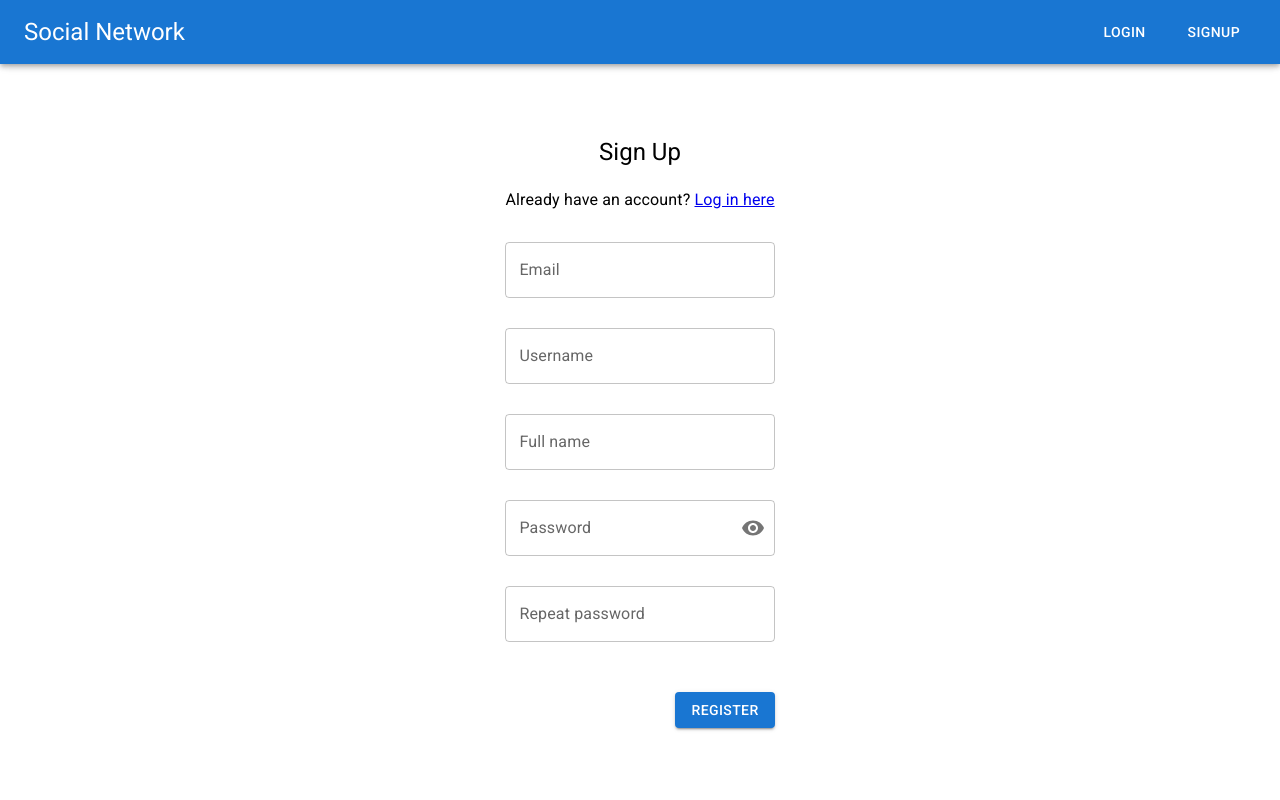
Test case: register page form › should return error if email taken
The width and height of the screenshot is (1280, 800).
Type "johndoe@gmail.com" into the field labelled "Email". click: x=640, y=270
box: [505,242,775,298]
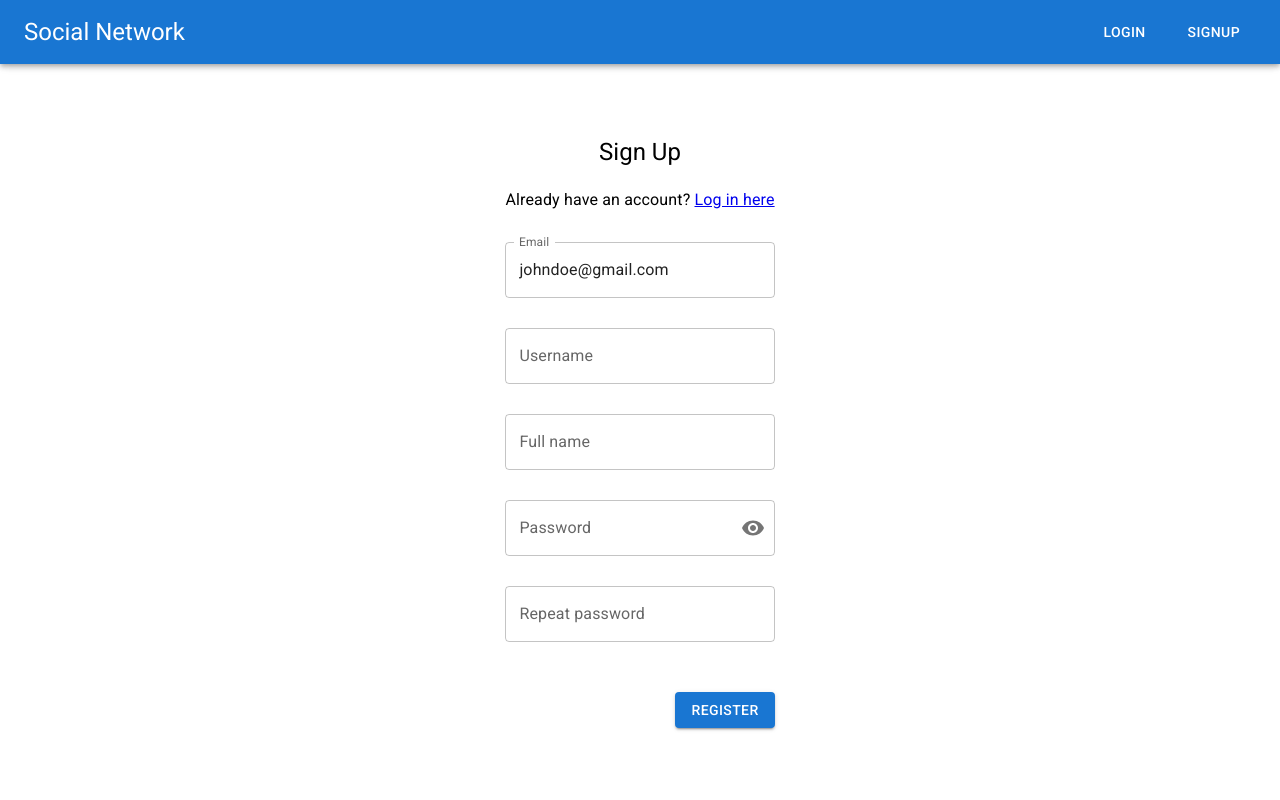
Type "john007" into the field labelled "Username". click: x=640, y=356
box: [505,328,775,384]
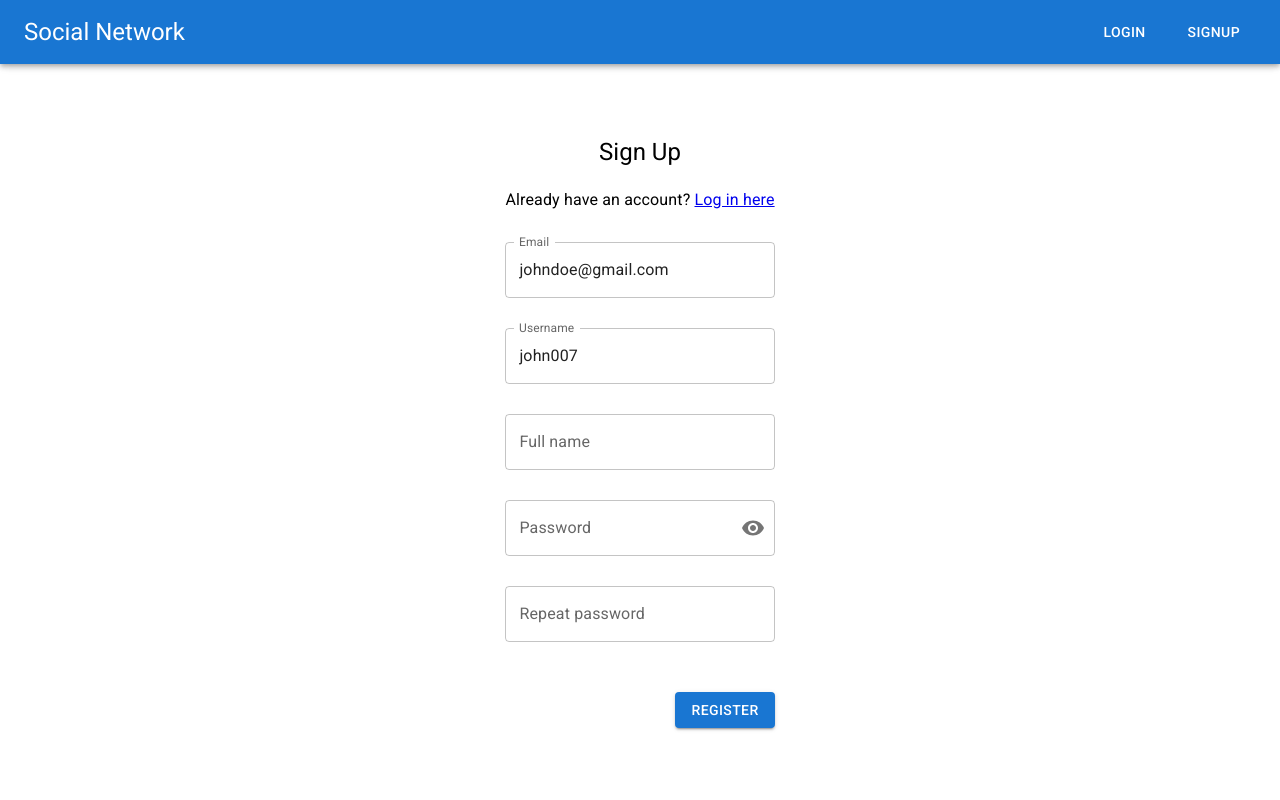
Type "John Doe" into the field labelled "Full name". click: x=640, y=442
box: [505,414,775,470]
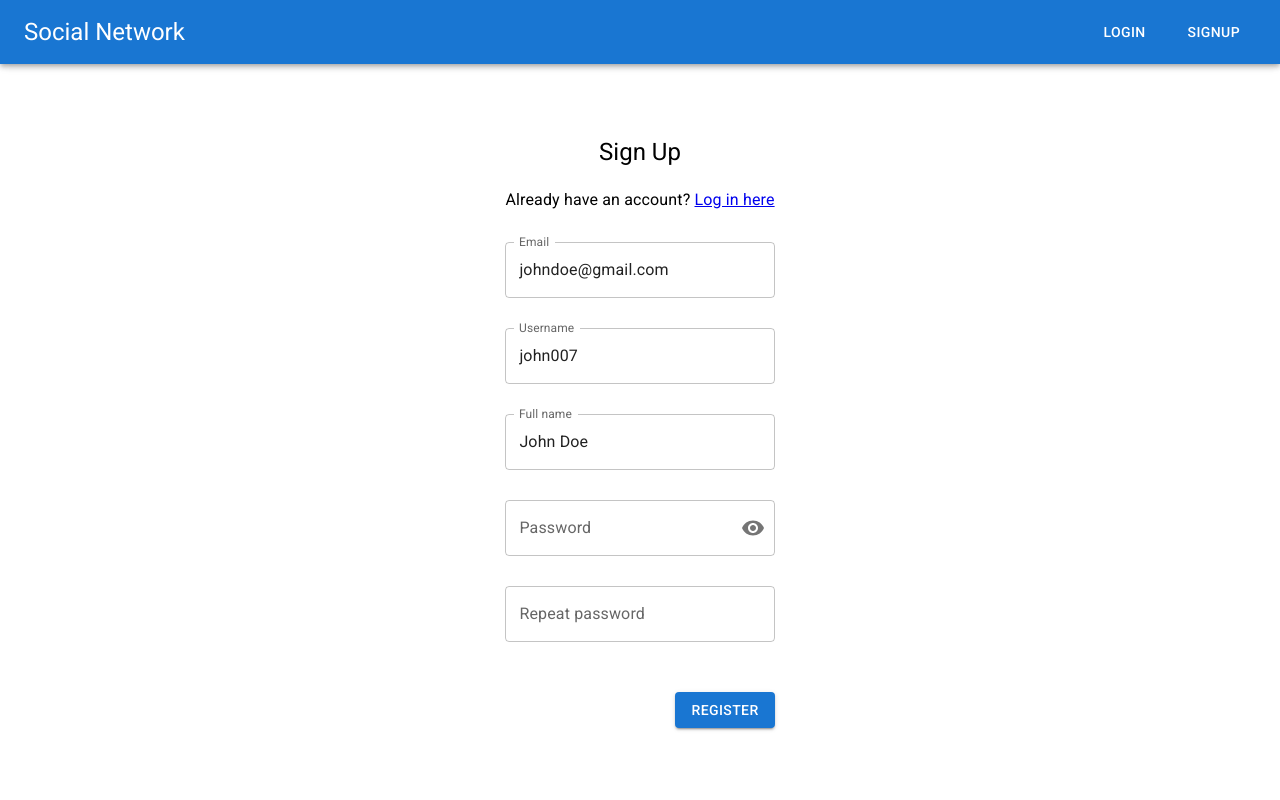
Type "123" into the password field labelled "Password". click: x=615, y=528
box: [505,500,725,556]
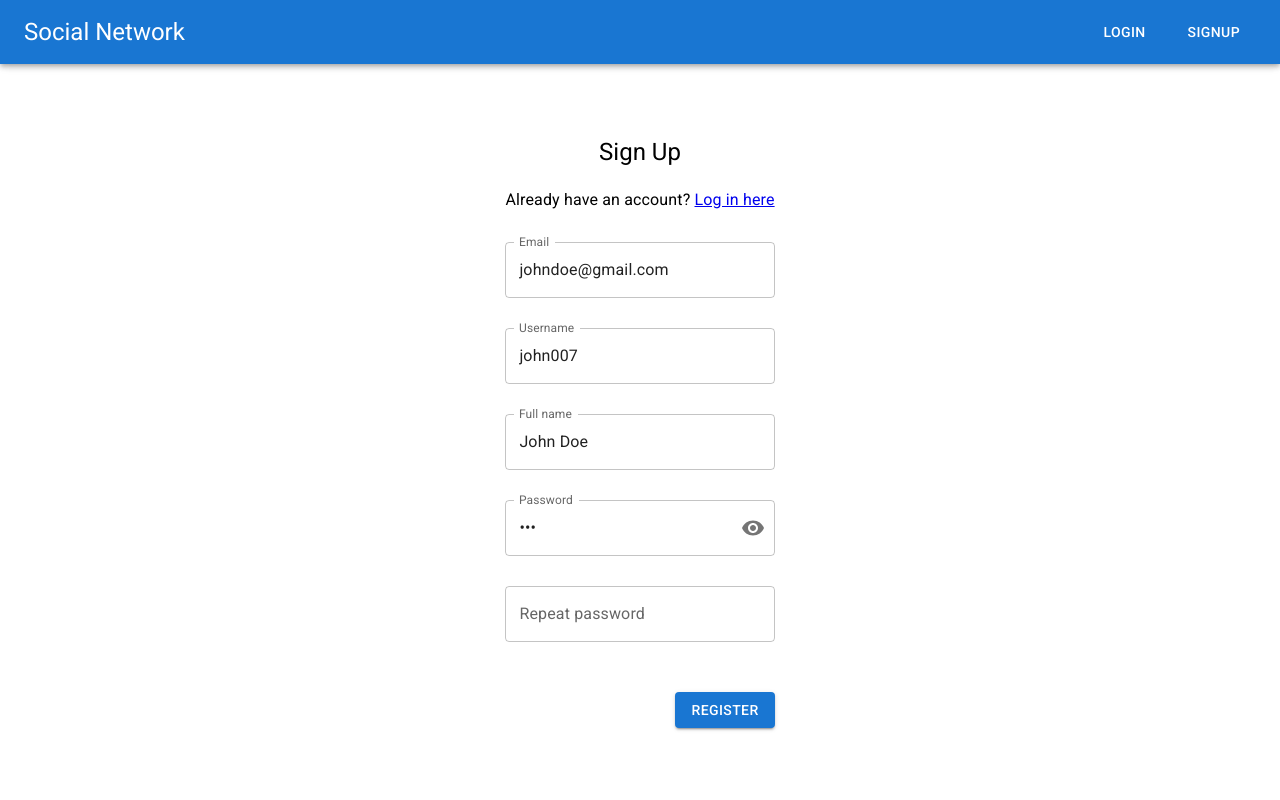
Type "123" into the password field labelled "Repeat password". click: x=640, y=614
box: [505,586,775,642]
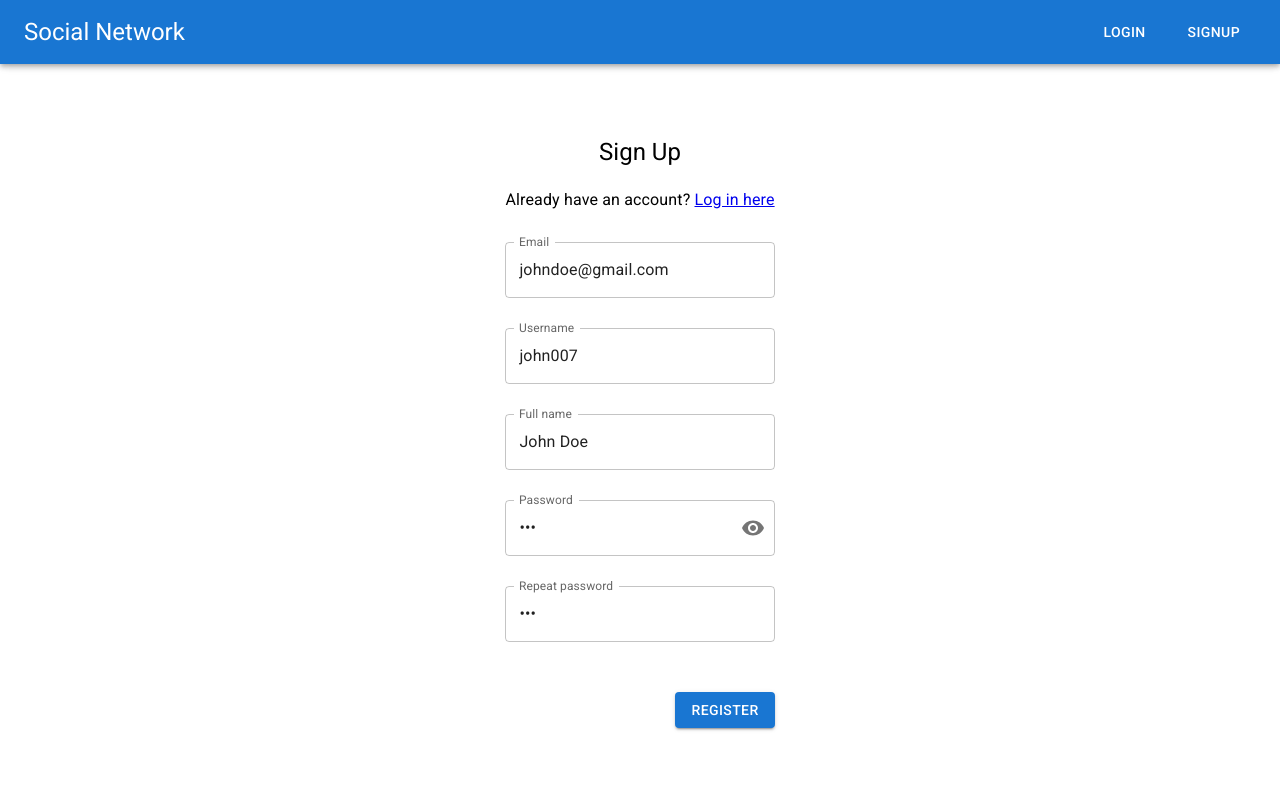
Click the button with test id "submit-btn". click: x=725, y=710
box: [676,692,775,728]
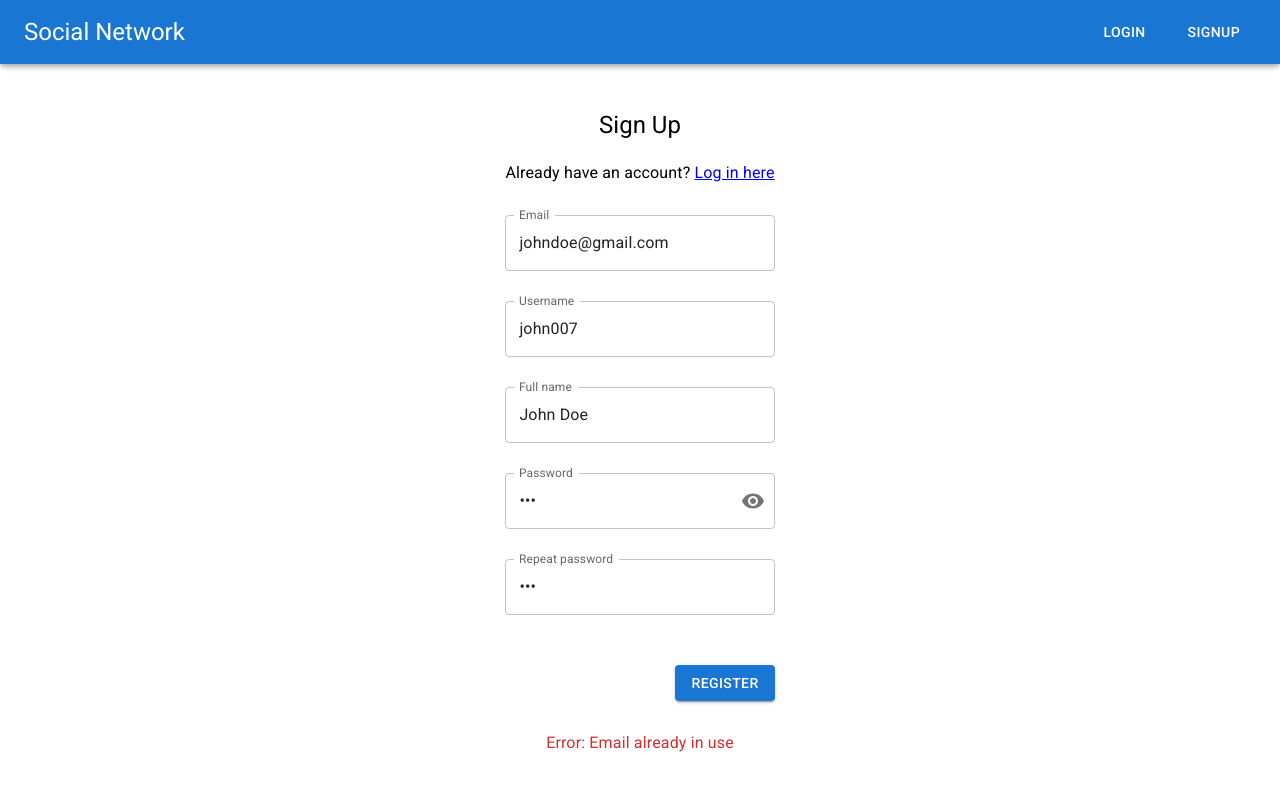
Now the text with test id "error-txt" reads "Error: Email already in use", box [546,733,734,752]
